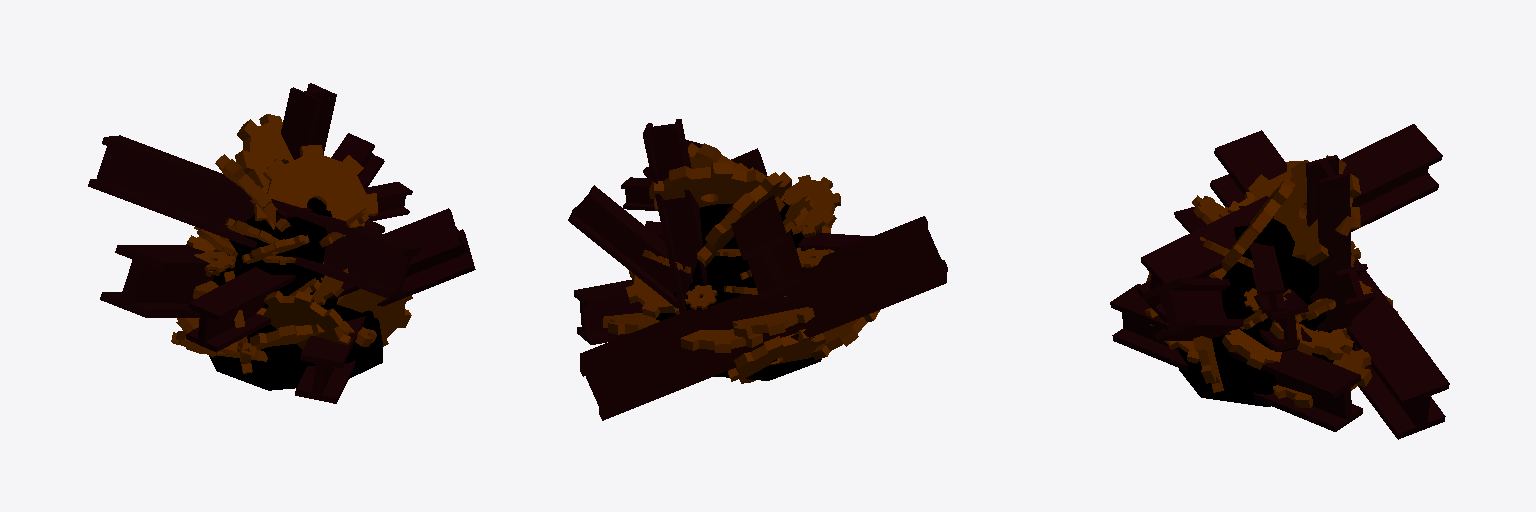
The model's file is TrashLiteralTrashWithColor.obj.
3 renders of one model, left to right at view 1: azimuth 30°, elevation 25°; view 2: azimuth 150°, elevation 25°; view 3: azimuth 270°, elevation 25°, orthographic.
Parts seen in each view (by area): view 1: pCube10; view 2: pCube10; view 3: pCube10.
Part boxes in pixels (x1,y1,x2,y2): pCube10: (88,83,475,403); pCube10: (568,119,947,420); pCube10: (1110,124,1449,439).
Size of the model in its own units: 7.42 by 5.57 by 6.5.